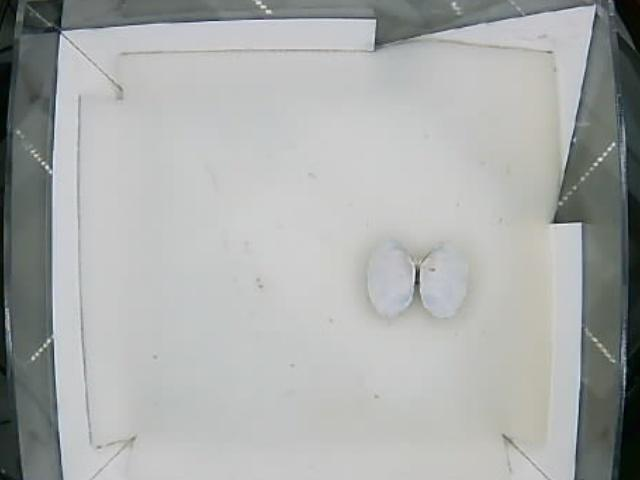Shell: (368, 241, 471, 320)
